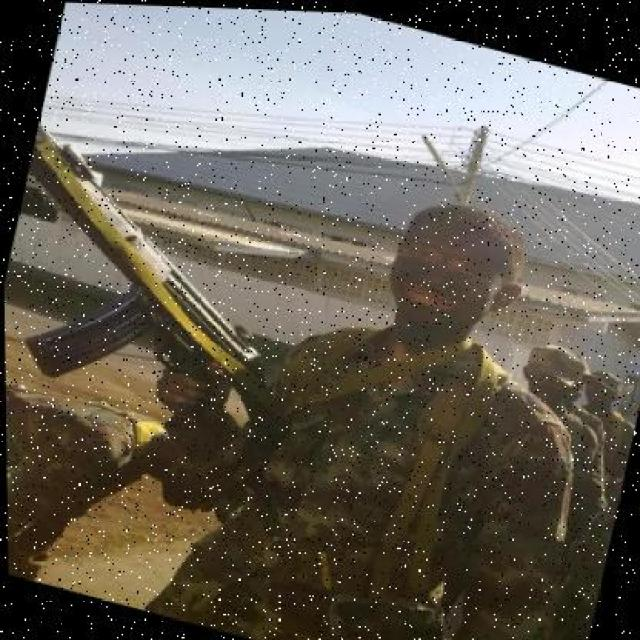MIL_Pax: (123, 123, 532, 640), (4, 345, 230, 620), (488, 324, 614, 550), (546, 344, 640, 534)
